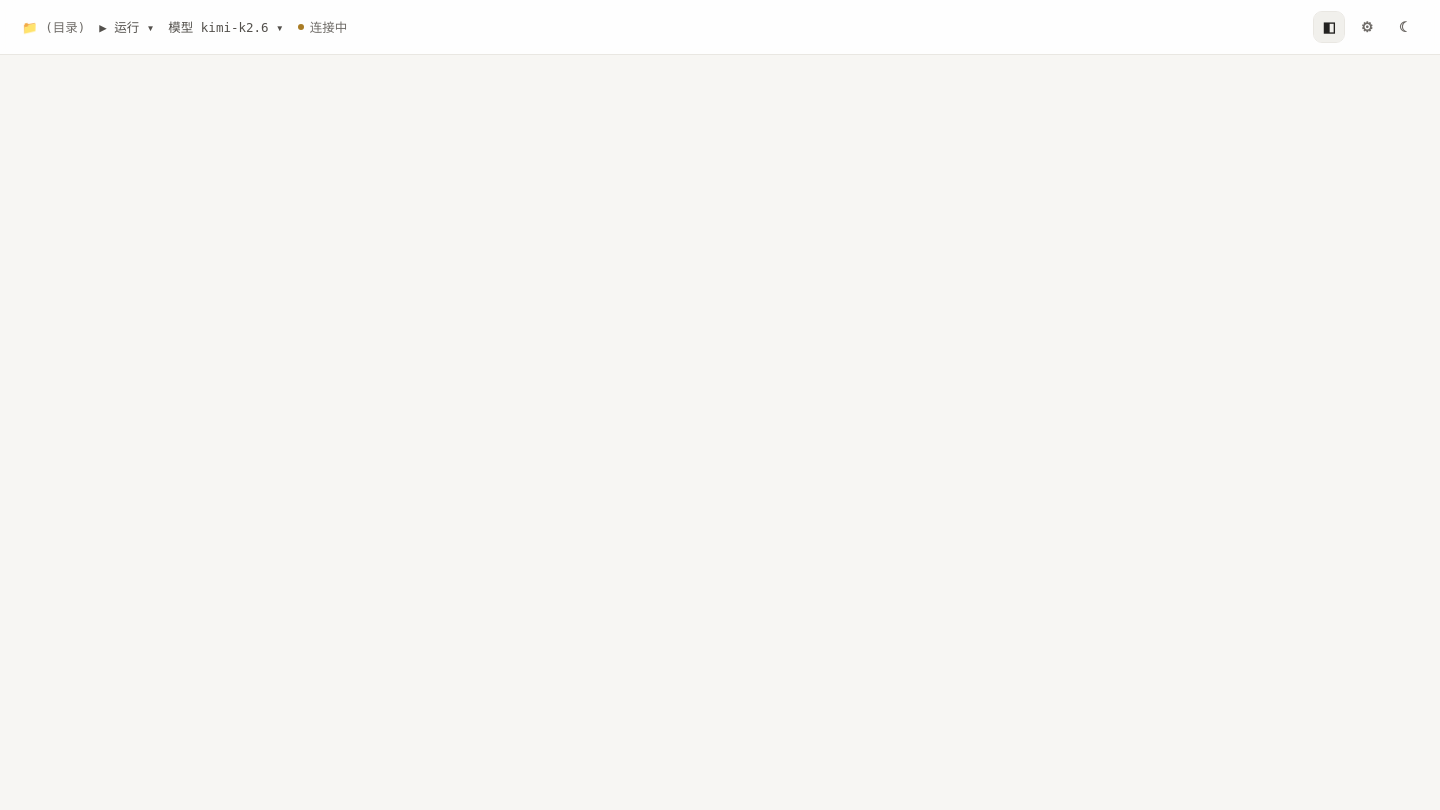
it: Header › clicking the model chip opens the ModelPicker
Click the button "模型 kimi-k2.6 ▾". click: (226, 27)
box: [166,16,286,38]
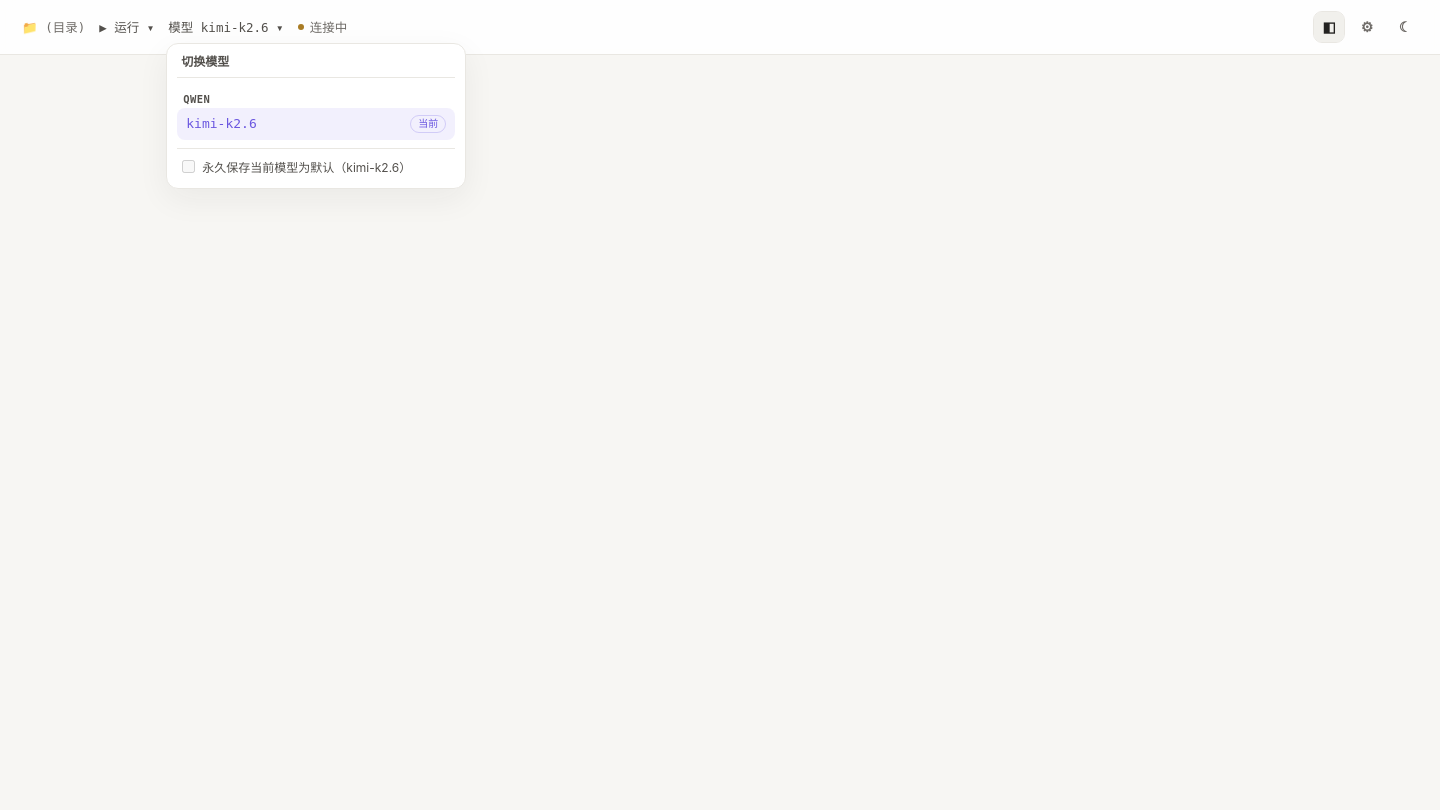
Expected: the dialog "切换模型" is shown, [166,42,466,189]
Expected: the text "kimi-k2.6" is shown, [186,115,257,133]
